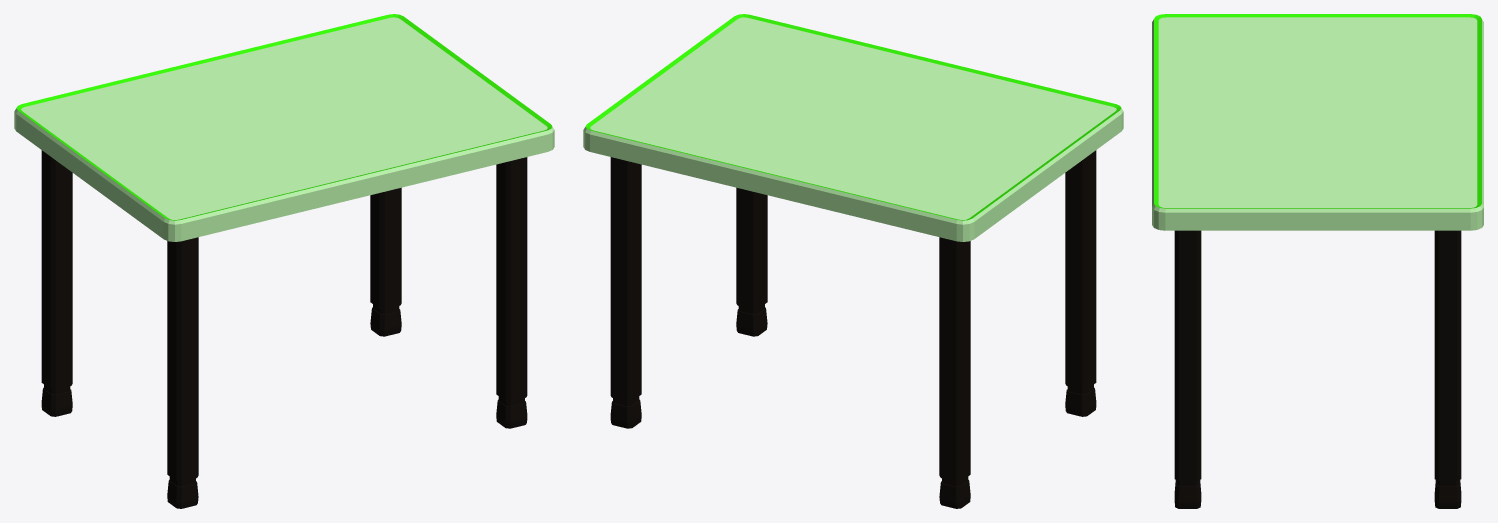
File: Table.fbx
The picture shows the model from 3 angles, left to right: view 1: azimuth 30°, elevation 25°; view 2: azimuth 150°, elevation 25°; view 3: azimuth 270°, elevation 25°; orthographic projection. The views are drawn at different scales.
Visible parts, largest first — view 1: Cube.001, Cube; view 2: Cube.001, Cube; view 3: Cube.001, Cube.
Boxes of the visible parts, bbox=[...] form: Cube.001: bbox=[14, 14, 554, 241]; Cube: bbox=[41, 150, 527, 508]; Cube.001: bbox=[583, 14, 1123, 241]; Cube: bbox=[610, 150, 1096, 508]; Cube.001: bbox=[1152, 14, 1483, 230]; Cube: bbox=[1174, 230, 1461, 508].
Size of the model in its own units: 175 by 129 by 125.
